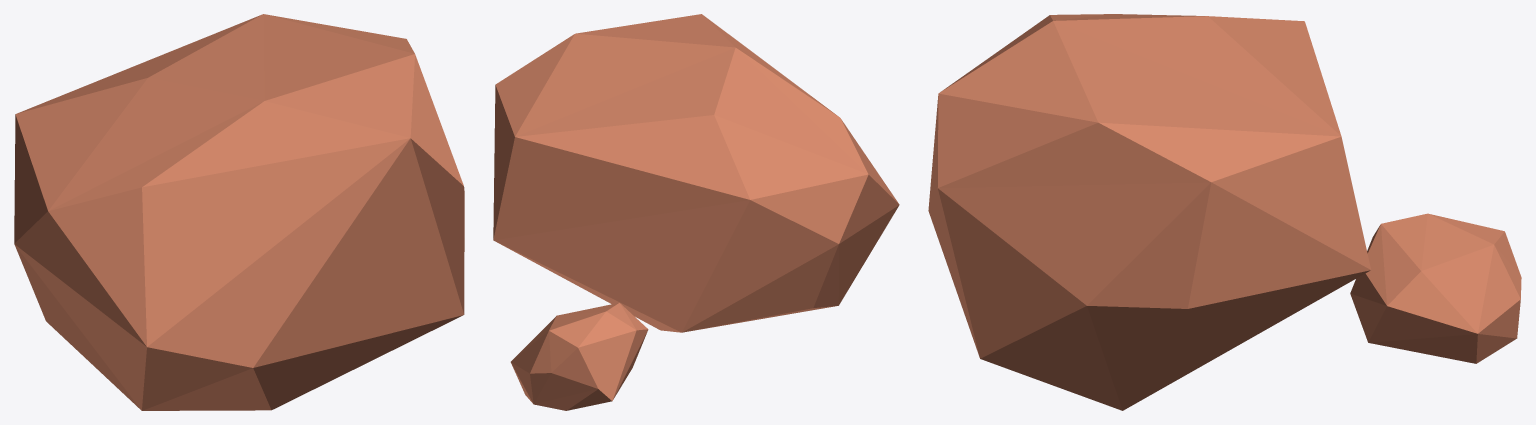
File: Rock_01.fbx
3 views of the same model, side by side, from view 1: azimuth 30°, elevation 25°; view 2: azimuth 150°, elevation 25°; view 3: azimuth 270°, elevation 25° (orthographic). The views are drawn at different scales.
Visible parts, largest first — view 1: Rock_01; view 2: Rock_01; view 3: Rock_01.
Boxes of the visible parts, x1,y1,x2,y2 form: Rock_01: [14, 14, 464, 410]; Rock_01: [493, 14, 899, 410]; Rock_01: [928, 14, 1521, 410].
Bounding box in the file's own units: 6.29 × 4.21 × 7.18.
